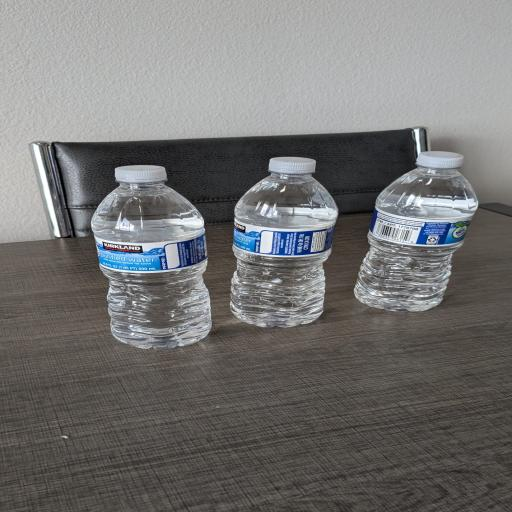waterbottle: (92, 166, 211, 348), (355, 152, 477, 311), (231, 157, 337, 327)
